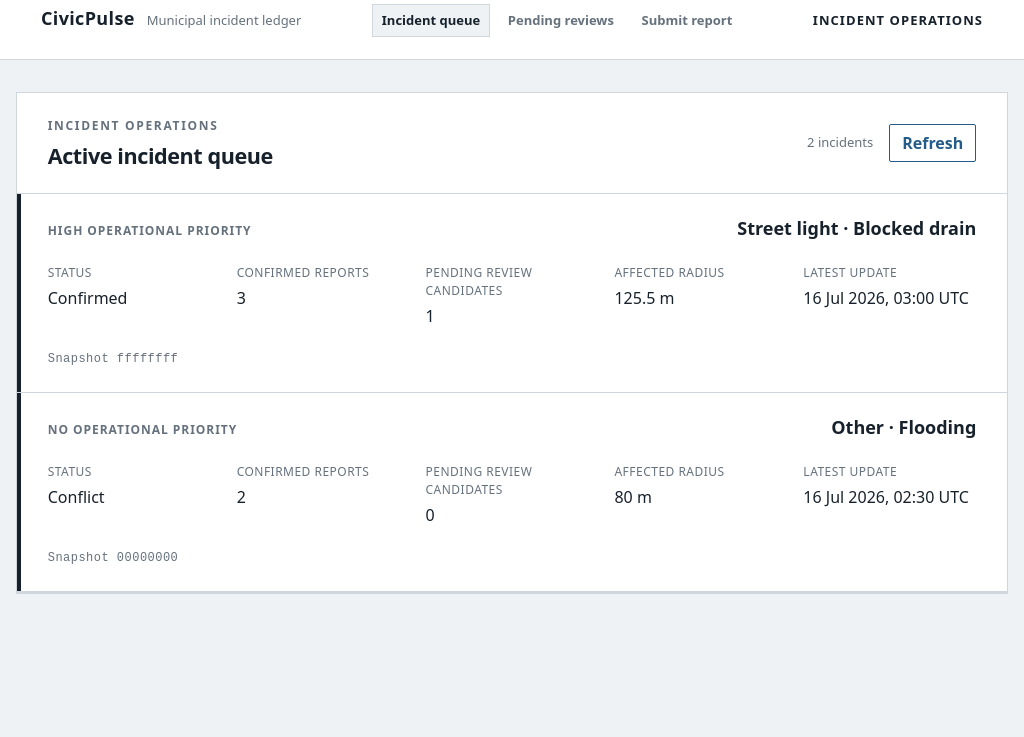
App shell › opens the native snapshot detail route from the expanded queue row
Click the button that starts with "High operational priority". click: (512, 381)
box: [17,194,1007,393]
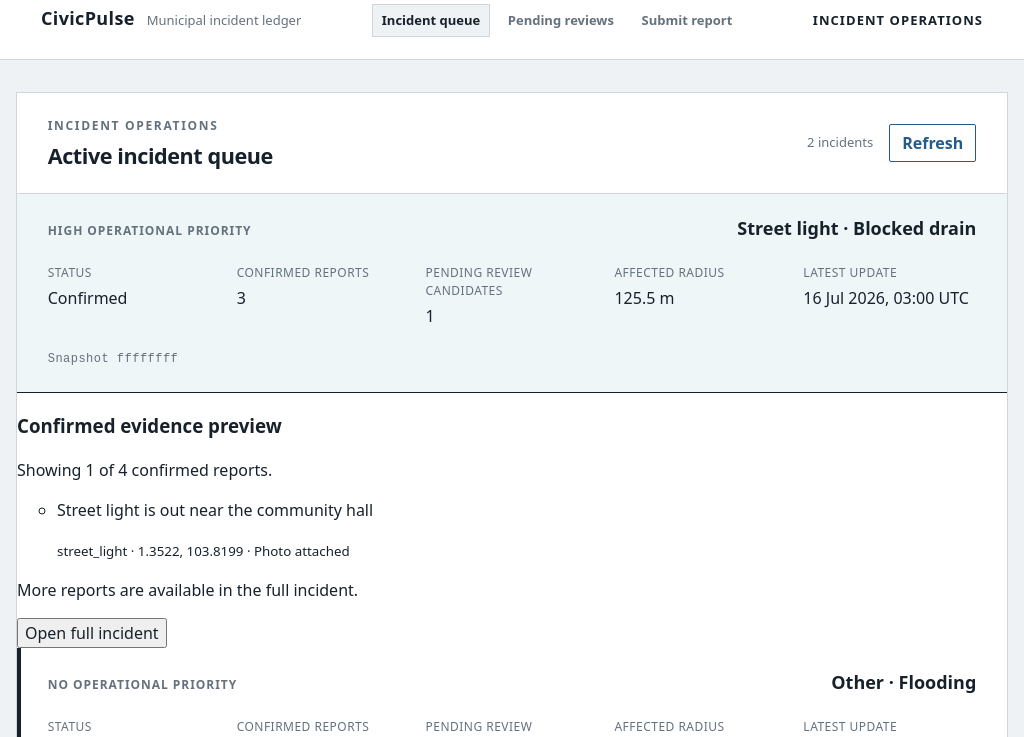
Click the button "Open full incident". click: (92, 633)
box: [17,618,167,648]
(page scrolled)
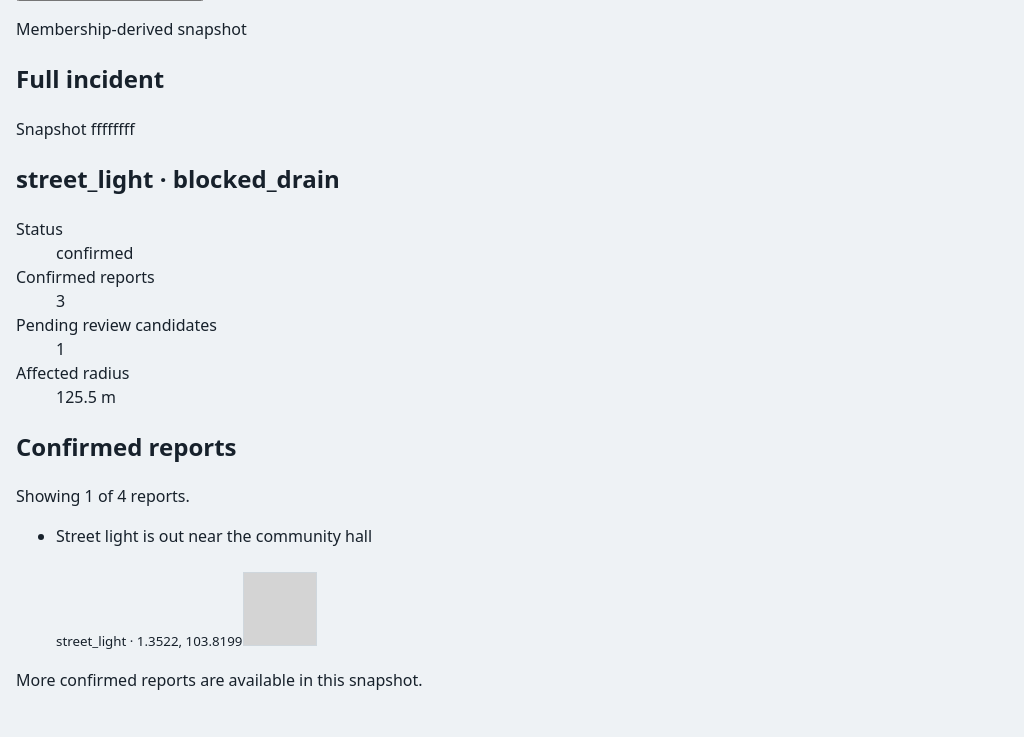
Check: the element that starts with "Snapshot ffffffff" is shown, box [16,118,422,691]
